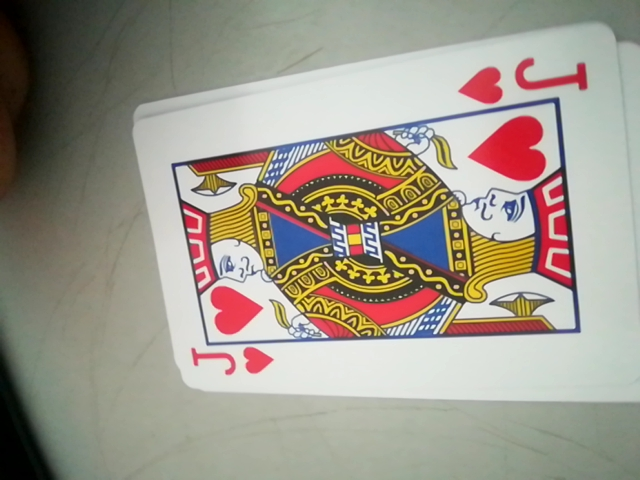hx j: (456, 51, 591, 109)
